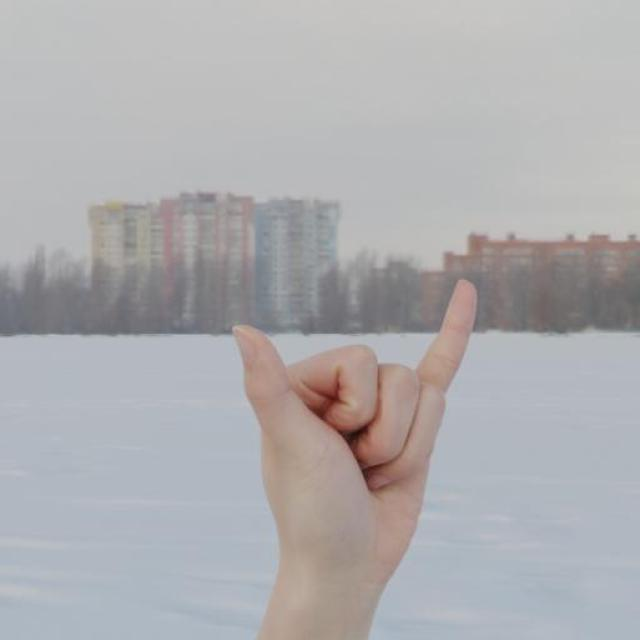Y: (227, 275, 483, 585)
